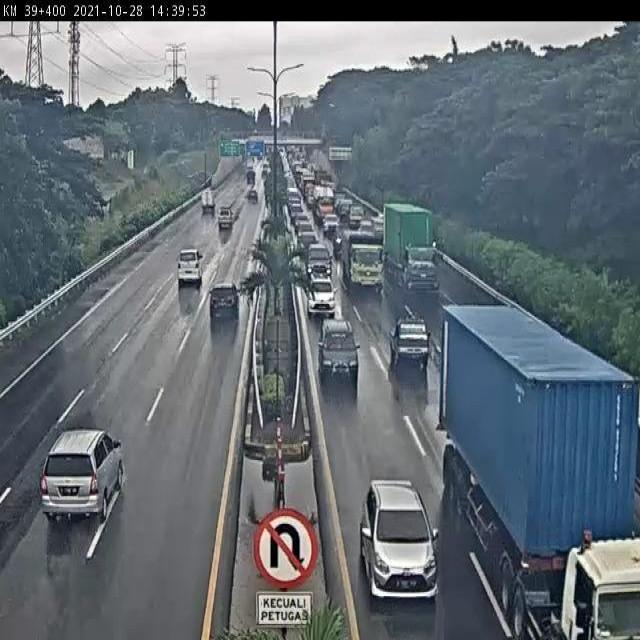big truck: (445, 308, 640, 640), (385, 204, 439, 287), (340, 229, 386, 288)
car: (360, 480, 437, 599), (42, 429, 123, 519), (318, 318, 360, 382), (388, 320, 430, 368), (210, 282, 241, 322), (308, 277, 336, 316), (176, 247, 203, 285), (306, 246, 331, 282), (215, 208, 233, 235), (297, 230, 316, 250)
